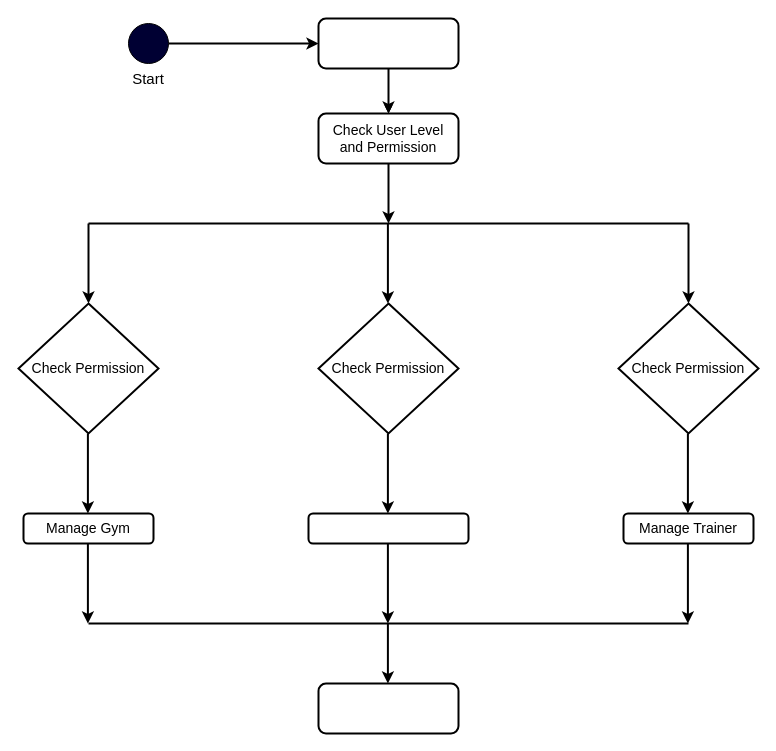
Image size: 776x751. Some labels were removed from this diagram. Each missing label, with the centre of its shape:
"Login to Gym Management System" belongs at (x=388, y=43).
"Logout From the System" belongs at (x=388, y=708).
"Manage Packages" belongs at (x=388, y=528).
